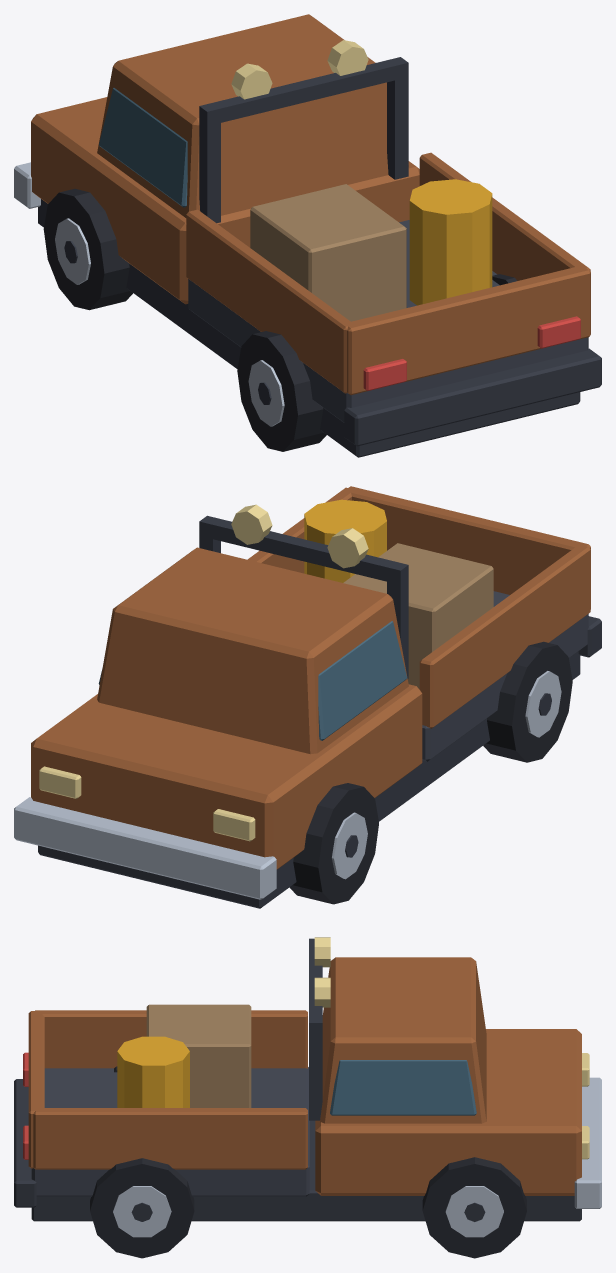
Rendered from Stylized_Apoc_Vehicle_02_Ruined_Truck.fbx.
The picture shows the model from 3 angles, top to bottom: view 1: azimuth 30°, elevation 25°; view 2: azimuth 150°, elevation 25°; view 3: azimuth 270°, elevation 25°; orthographic projection. The views are drawn at different scales.
Visible parts, largest first — view 1: Stylized_Apoc_Vehicle_02_Ruined_Truck; view 2: Stylized_Apoc_Vehicle_02_Ruined_Truck; view 3: Stylized_Apoc_Vehicle_02_Ruined_Truck.
Part boxes in pixels (x1,y1,x2,y2): Stylized_Apoc_Vehicle_02_Ruined_Truck: [14, 14, 601, 457]; Stylized_Apoc_Vehicle_02_Ruined_Truck: [14, 486, 601, 908]; Stylized_Apoc_Vehicle_02_Ruined_Truck: [14, 937, 601, 1258].
Size of the model in its own units: 2.46 by 2.36 by 5.18.
